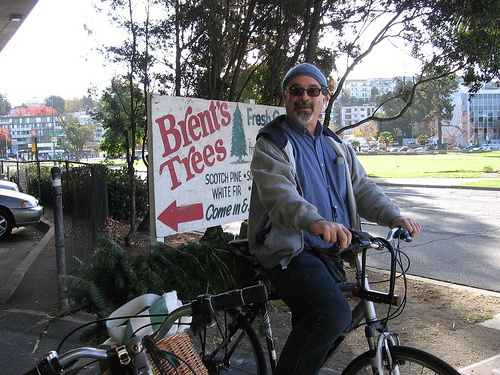non-vehicle: (174, 227, 456, 369), (25, 284, 266, 375)
